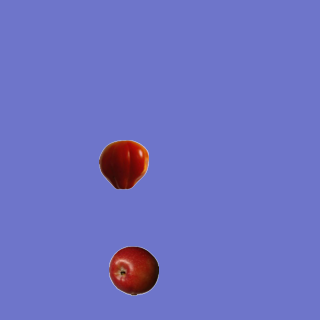Apple Braeburn: (108, 245, 158, 295)
Tomato 1: (98, 139, 148, 189)
